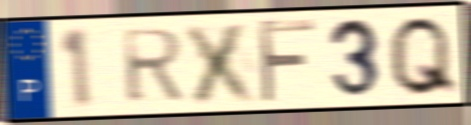1: (58, 25, 94, 111)
3: (326, 15, 386, 102)
F: (255, 17, 320, 106)
Q: (386, 13, 461, 99)
R: (118, 25, 187, 106)
X: (181, 20, 263, 106)
